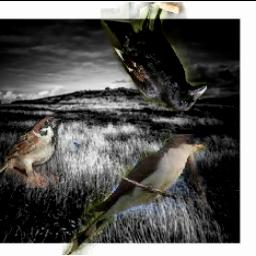Crow: (102, 3, 208, 112)
Cuckoo: (62, 135, 207, 256)
Sparrow: (0, 115, 61, 189)
